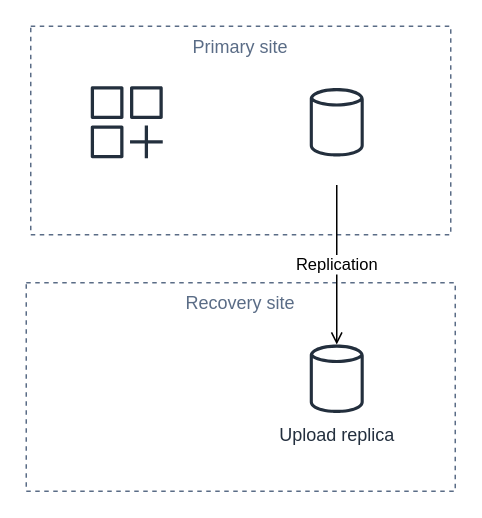
Some shapes in this 482 by 518 pixel diagram are drawn without their labels. Each missing label, with the centre of its shape:
"API" goes at (x=126, y=122).
"User uploads" goes at (x=336, y=122).
